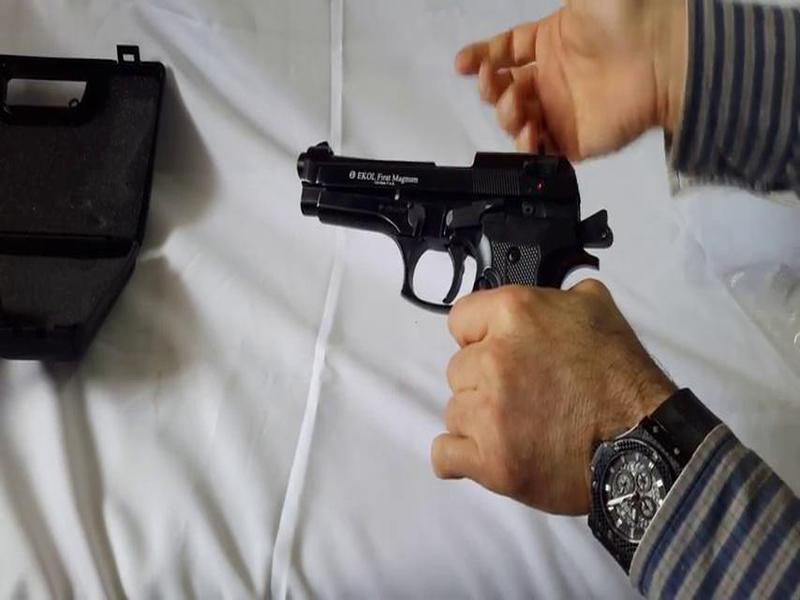Pistola: (272, 136, 633, 343)
